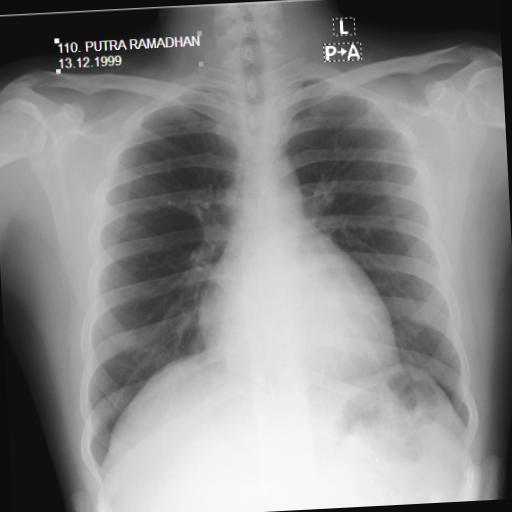kardiomegali: (59, 46, 489, 487)
